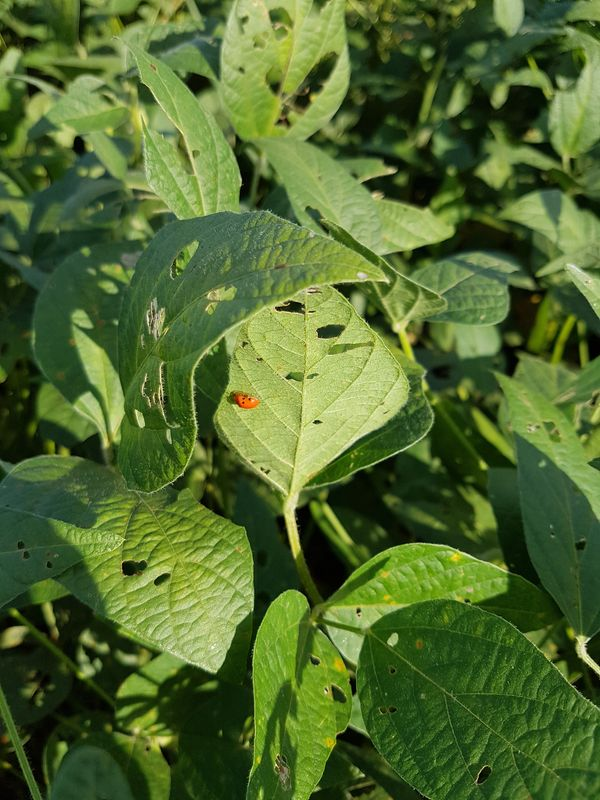Coccinellidae: (225, 382, 267, 418)
